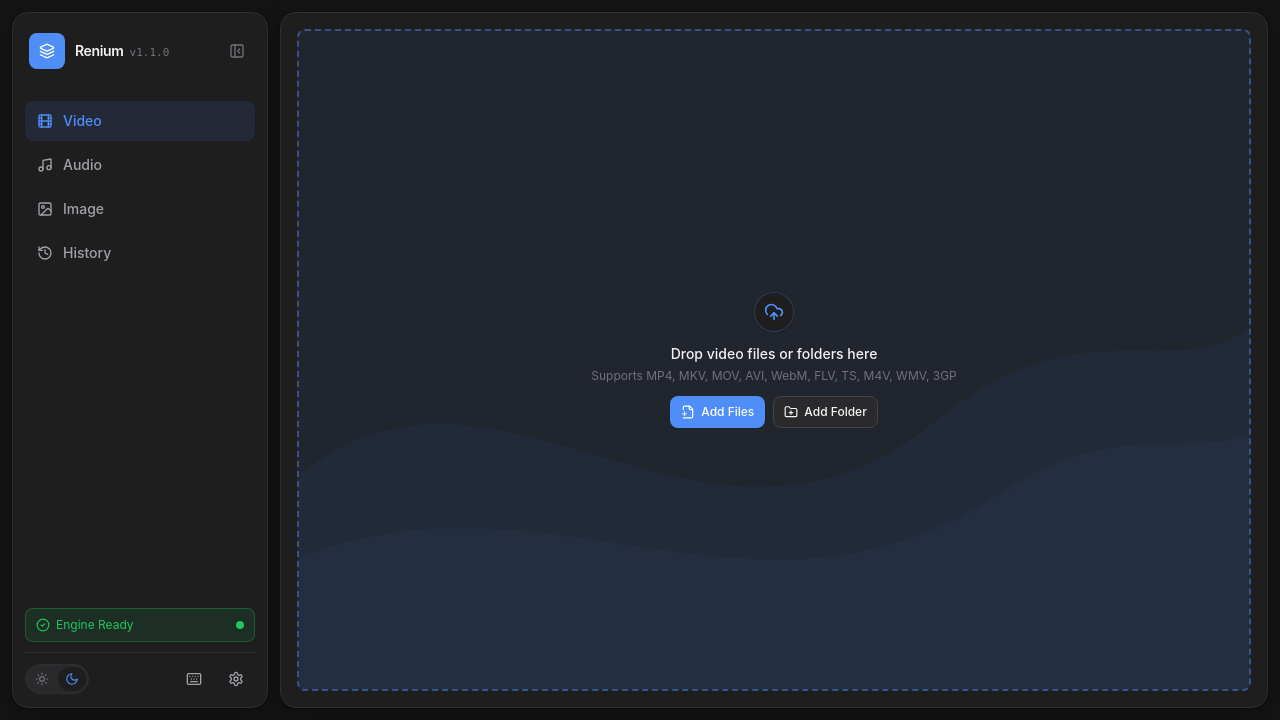
Test: Renium UI & Workflows › opens Keyboard Shortcuts modal via sidebar button and '?' / Escape shortcuts
The image size is (1280, 720).
Expected: the text "Drop video files or folders here" is shown, [671,345,877,362]
Click the button named "Keyboard Shortcuts": (194, 679) [175,663,213,695]
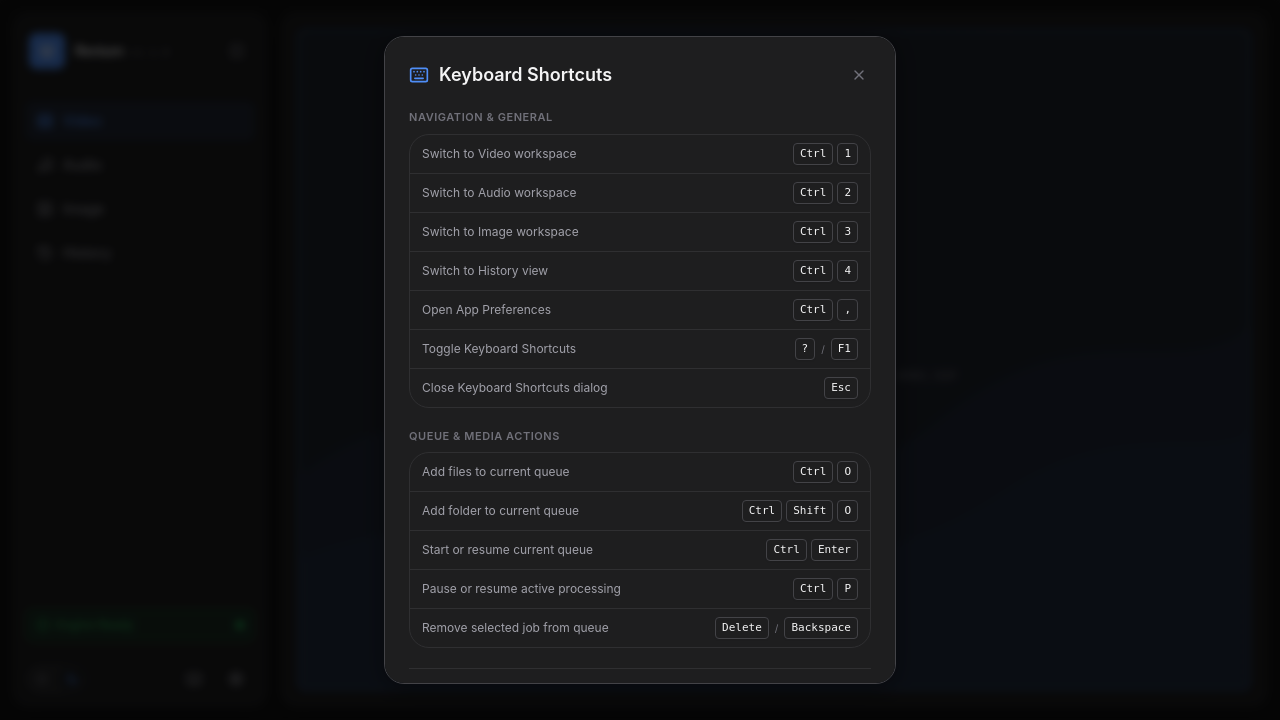
Expected: the dialog "Keyboard Shortcuts" is shown
Expected: the text "Switch to Video workspace" is shown, [422,146,576,162]
Expected: the text "Start or resume current queue" is shown, [422,542,593,558]
Press Escape
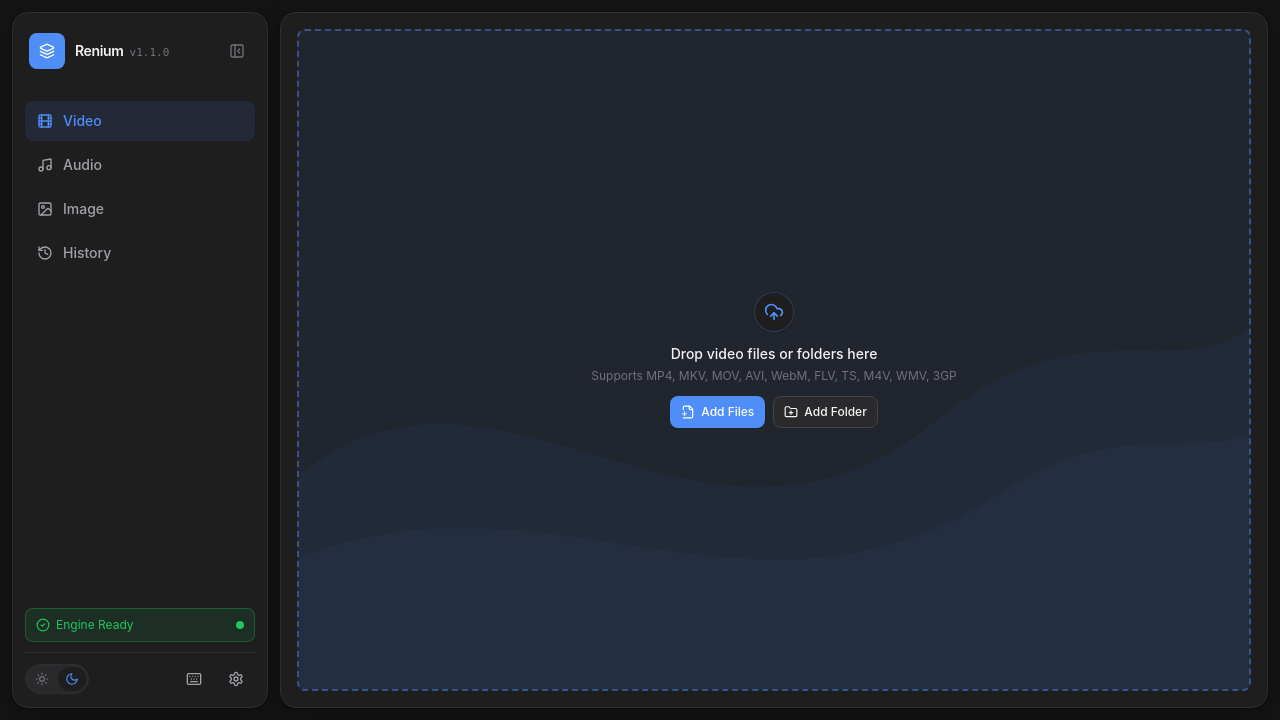
Expected: the heading "Keyboard Shortcuts" is gone
Press ?
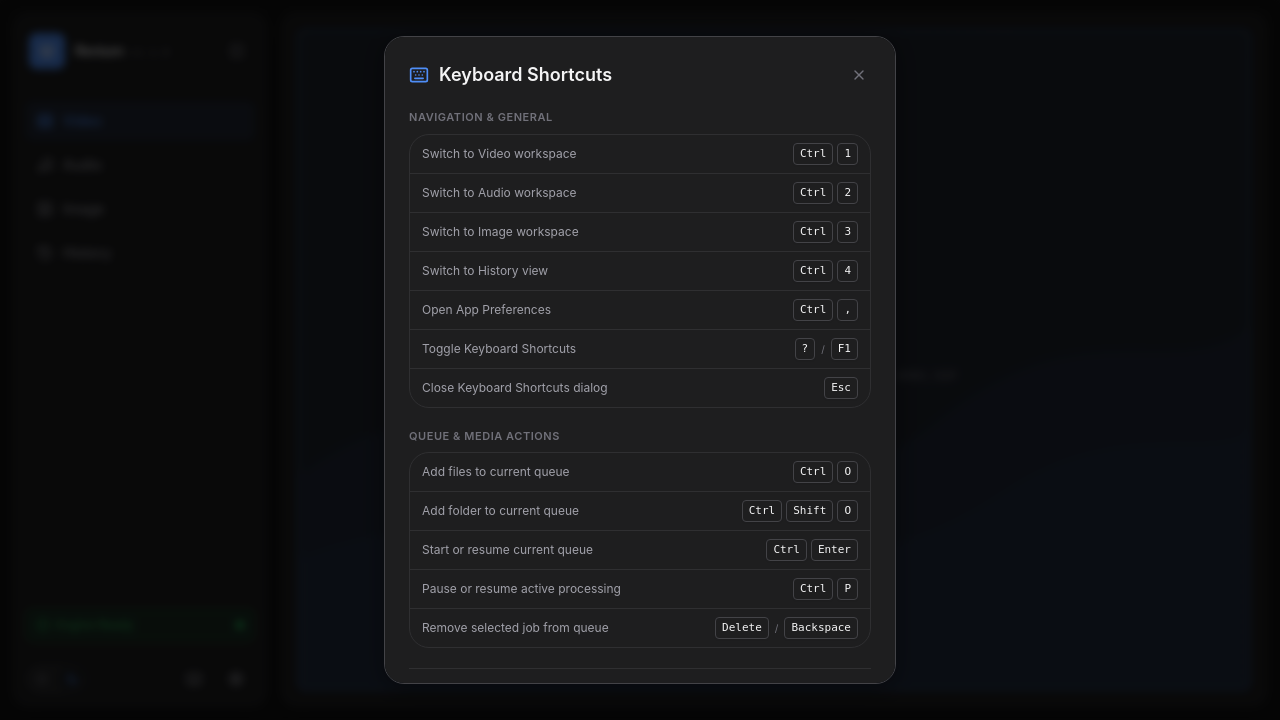
Expected: the dialog "Keyboard Shortcuts" is shown
